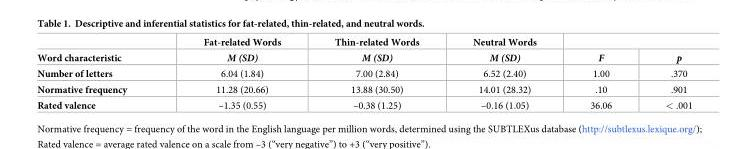table: (36, 36, 691, 110)
table column: (164, 36, 307, 110), (307, 36, 445, 110), (36, 36, 164, 110), (445, 36, 562, 110), (562, 36, 638, 110), (638, 36, 691, 110)
table column header: (36, 36, 691, 66)
table row: (36, 48, 691, 66), (36, 81, 691, 97), (36, 66, 691, 81), (36, 97, 691, 110), (36, 36, 691, 48)
table spanning cell: (164, 36, 307, 66), (307, 36, 445, 66), (36, 36, 164, 66), (445, 36, 562, 66), (562, 36, 638, 66), (638, 36, 691, 66)
